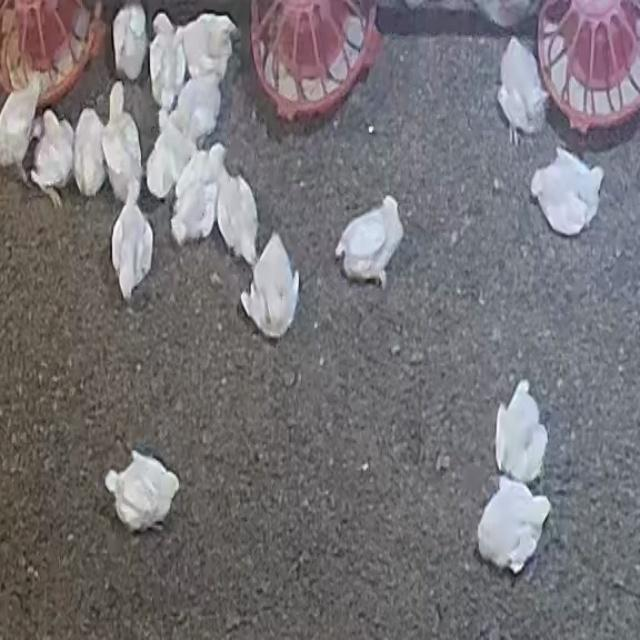chicken: (334, 183, 404, 294), (476, 477, 550, 574), (531, 146, 603, 234), (104, 450, 179, 532), (246, 234, 299, 340), (494, 381, 548, 484), (499, 36, 549, 144), (100, 84, 144, 204), (209, 164, 260, 266), (110, 184, 154, 302), (176, 11, 240, 86), (0, 79, 43, 180), (168, 72, 223, 149), (30, 110, 74, 205), (178, 144, 222, 237), (148, 108, 190, 198), (147, 11, 184, 108), (74, 106, 108, 197), (111, 2, 148, 82)
